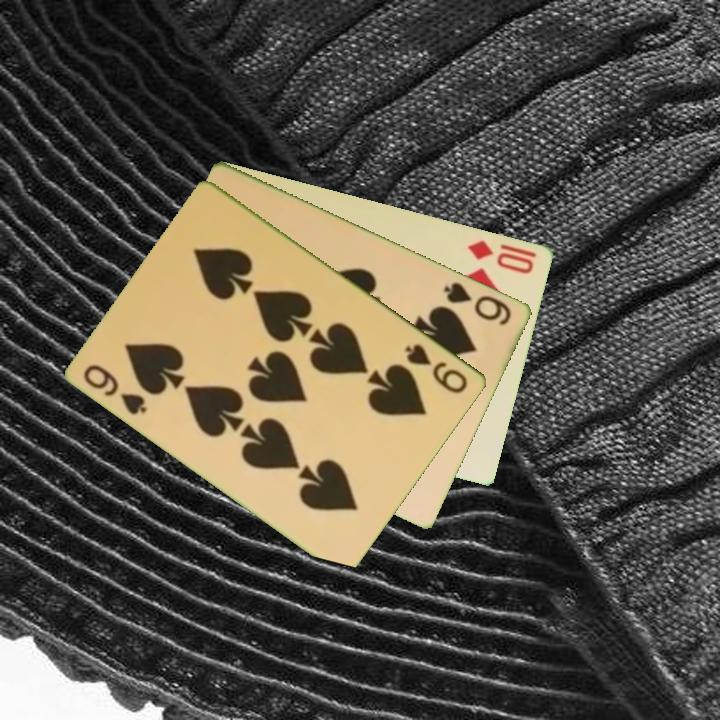10d: (465, 236, 540, 277)
6s: (441, 278, 515, 328)
9s: (80, 360, 150, 418), (401, 340, 472, 397)
